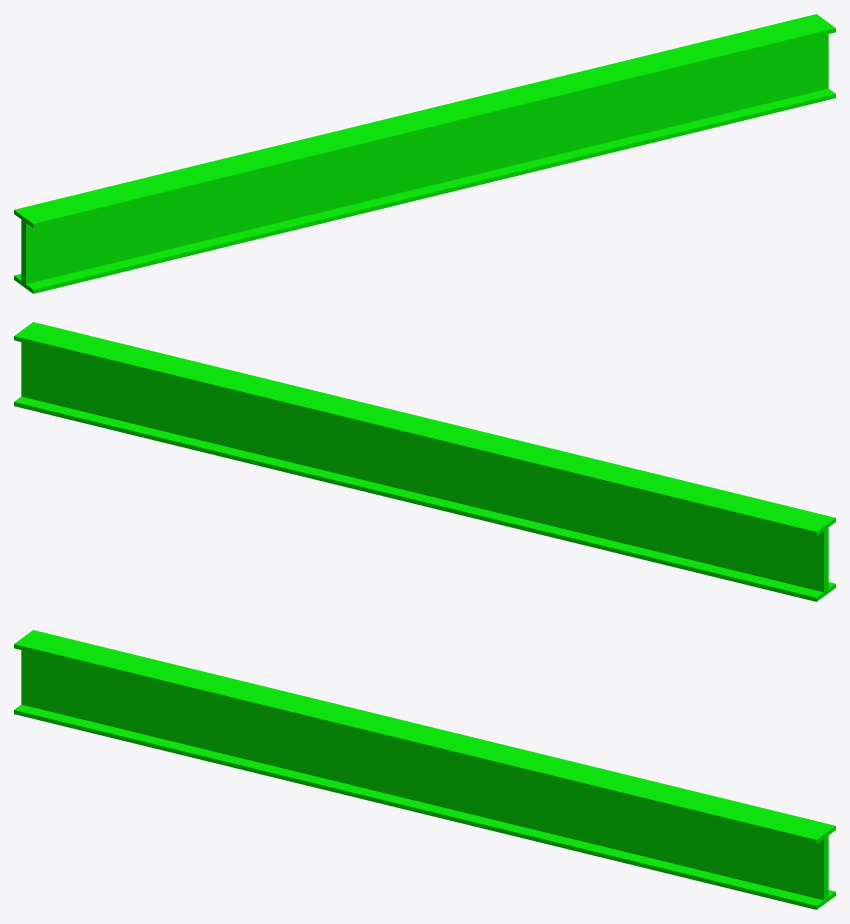
File: Structure02_Beam03.fbx
The picture shows the model from 3 angles, top to bottom: view 1: azimuth 30°, elevation 25°; view 2: azimuth 150°, elevation 25°; view 3: azimuth 330°, elevation 25°; orthographic projection.
Visible parts, largest first — view 1: Structure02_Beam03_LOD0; view 2: Structure02_Beam03_LOD0; view 3: Structure02_Beam03_LOD0.
Part boxes in pixels (x1,y1,x2,y2): Structure02_Beam03_LOD0: (14, 14, 835, 293); Structure02_Beam03_LOD0: (14, 322, 835, 601); Structure02_Beam03_LOD0: (14, 630, 835, 909).
Size of what is drawn, in the model's own units: 300 by 25 by 12.5.
